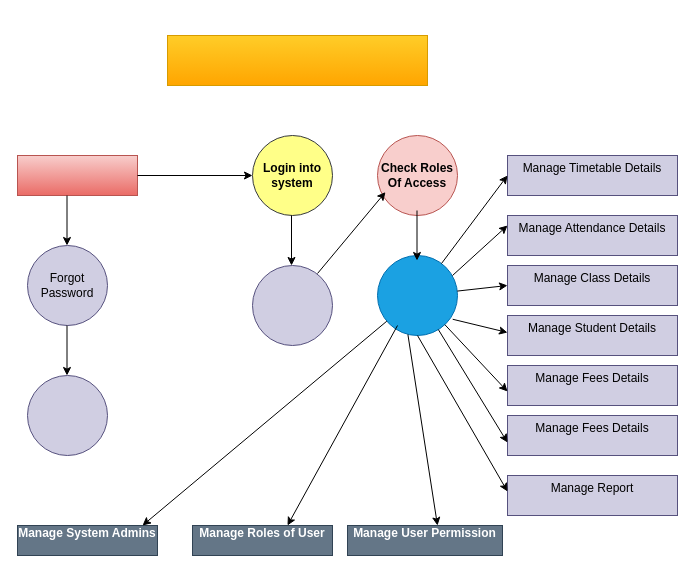
The diagram is 695 pixels wide and 587 high, and some of its shapes have lost their labels. Here are the shapes that lost their labels. From the top down, the centre of each, then its label:
the point at 297,60: Student Information System
the point at 77,175: Admin
the point at 292,305: Check Credentials
the point at 417,295: Manage Modues
the point at 67,415: Send Email To User
